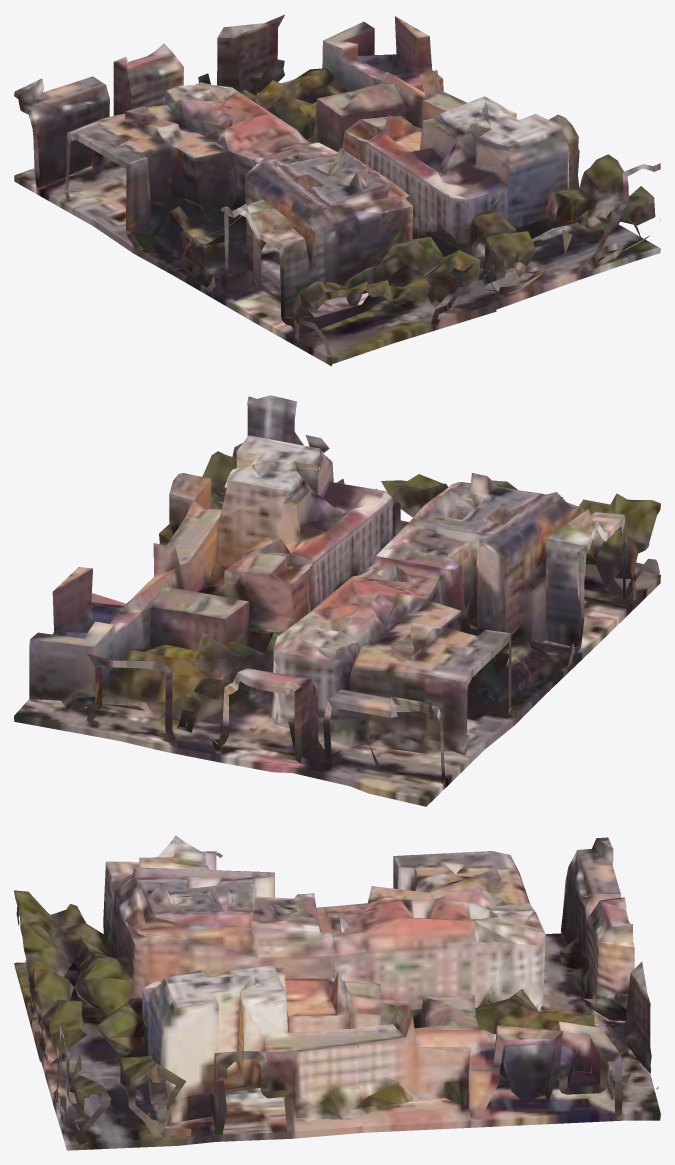
3 renders of one model, top to bottom at view 1: azimuth 30°, elevation 25°; view 2: azimuth 150°, elevation 25°; view 3: azimuth 270°, elevation 25°, orthographic. The views are drawn at different scales.
Visible parts, largest first — view 1: Mesh_0; view 2: Mesh_0; view 3: Mesh_0.
Boxes of the visible parts, bbox=[...] form: Mesh_0: bbox=[14, 14, 660, 366]; Mesh_0: bbox=[14, 395, 660, 806]; Mesh_0: bbox=[14, 835, 660, 1150].
Bounding box in the file's own units: 133 × 39.28 × 165.
1 material, 1 textured.
